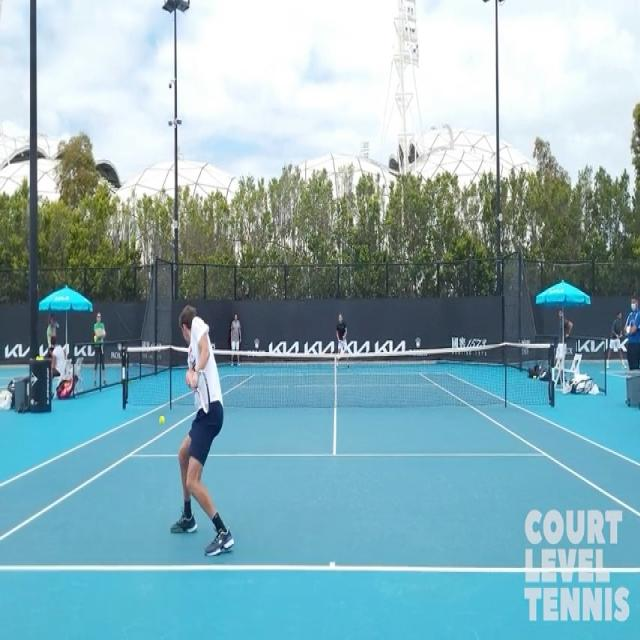backhand-stroke: (159, 272, 255, 566)
